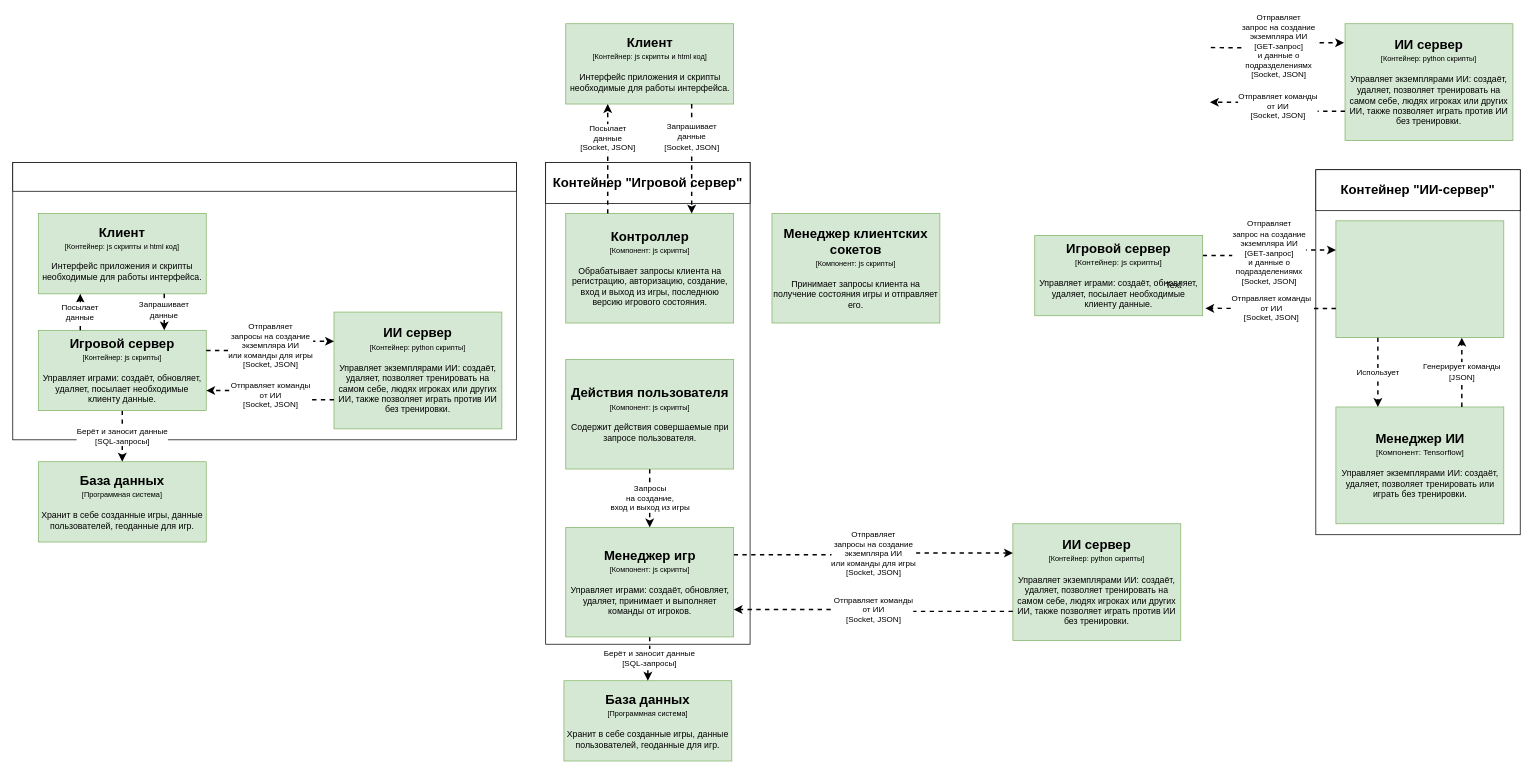
The diagram is 1533 pixels wide and 774 high, and some of its shapes have lost their labels. Here are the shapes that lost their labels. From the top down, the centre of each, then its label:
(264,176): Web-приложение "WarOnMap"
(1419,279): Сервер [Компонент : Flask-сервер] Принимает запросы от игрового сервера
